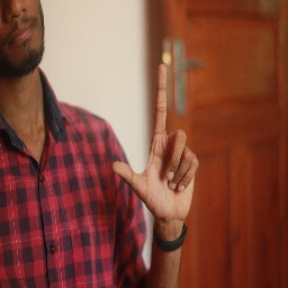L: (113, 62, 202, 215)
